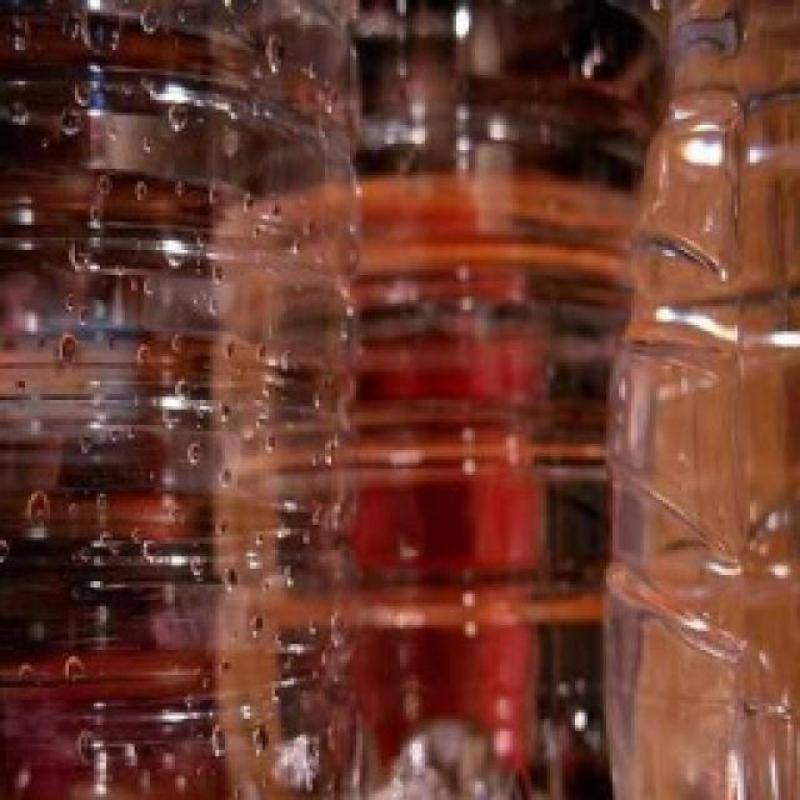botella: (0, 0, 362, 800), (359, 0, 672, 800), (602, 0, 800, 800)
